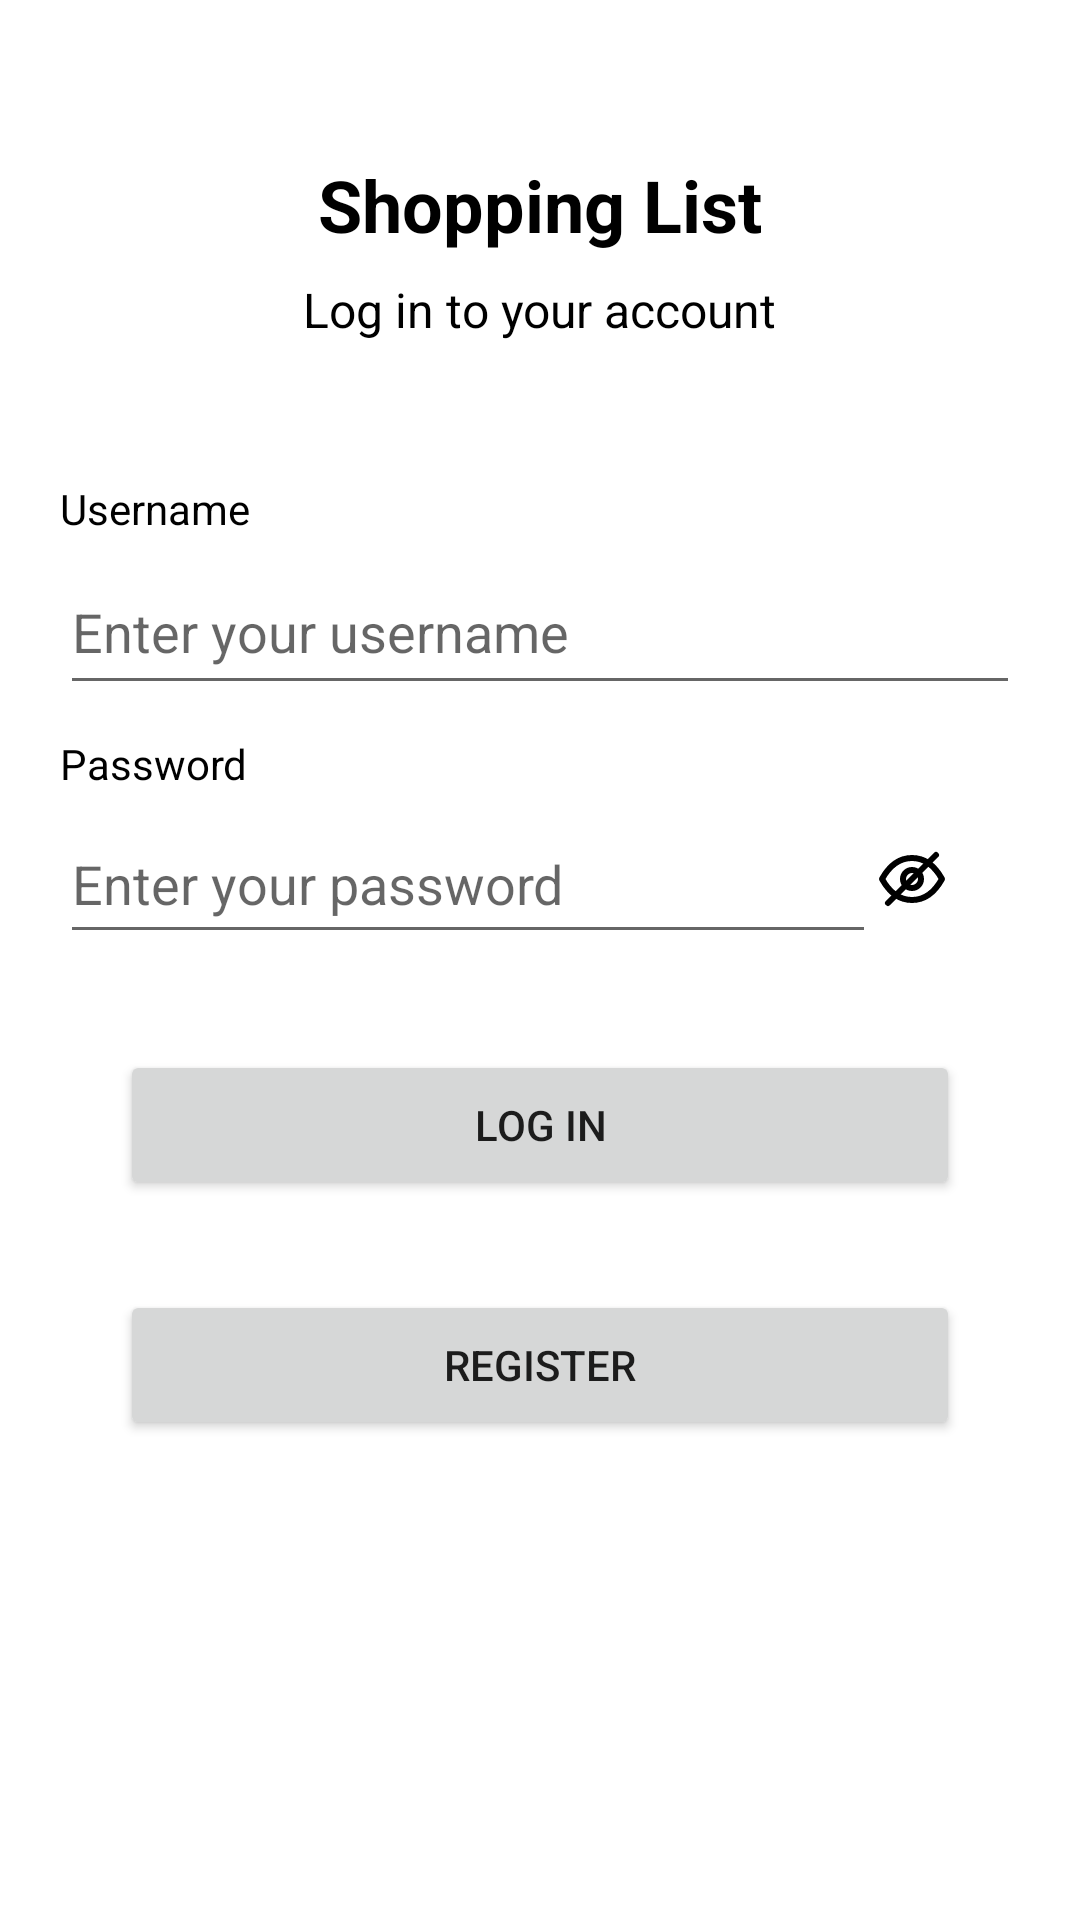

Named icons in this screenshot (1080w x 1920h) and their centers, point (x, y):
Toggle visibility of the password dialogue: point (912, 878)
